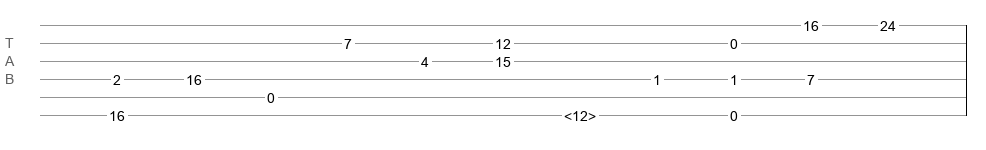0: (267, 90, 275, 100), (730, 36, 738, 46), (730, 108, 738, 118)
1: (653, 72, 661, 82), (730, 72, 738, 82)
12: (495, 36, 511, 46)
15: (495, 54, 511, 64)
16: (109, 108, 125, 118), (186, 72, 202, 82), (803, 18, 819, 28)
2: (113, 72, 121, 82)
24: (880, 18, 896, 28)
4: (421, 54, 429, 64)
7: (344, 36, 352, 46), (807, 72, 815, 82)
harmonic: (564, 108, 596, 118)
